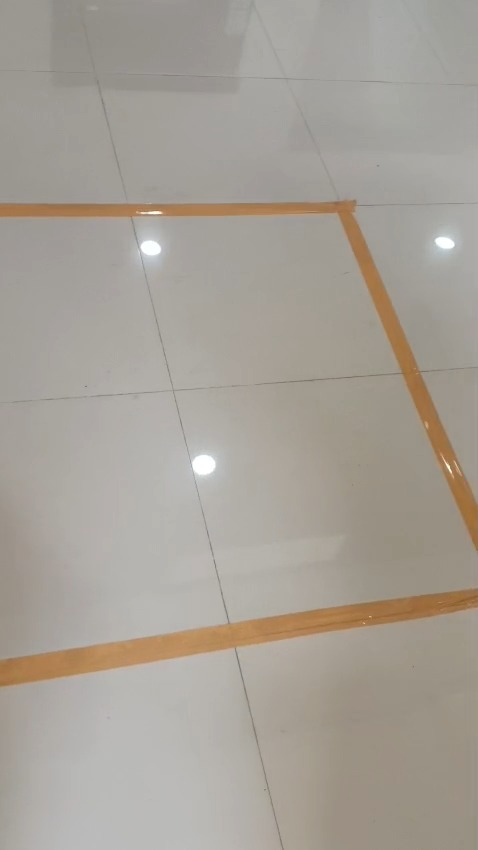floor marking: (0, 201, 477, 548), (0, 588, 477, 686), (172, 210, 173, 211)
